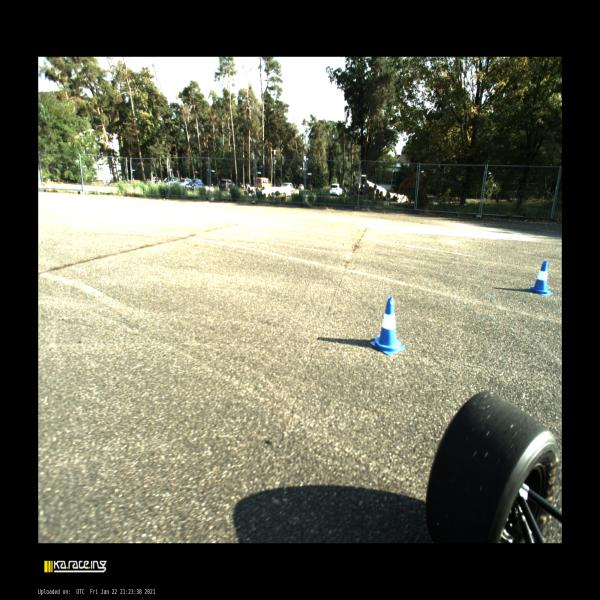blue_cone: (372, 297, 404, 356), (530, 261, 552, 295)
